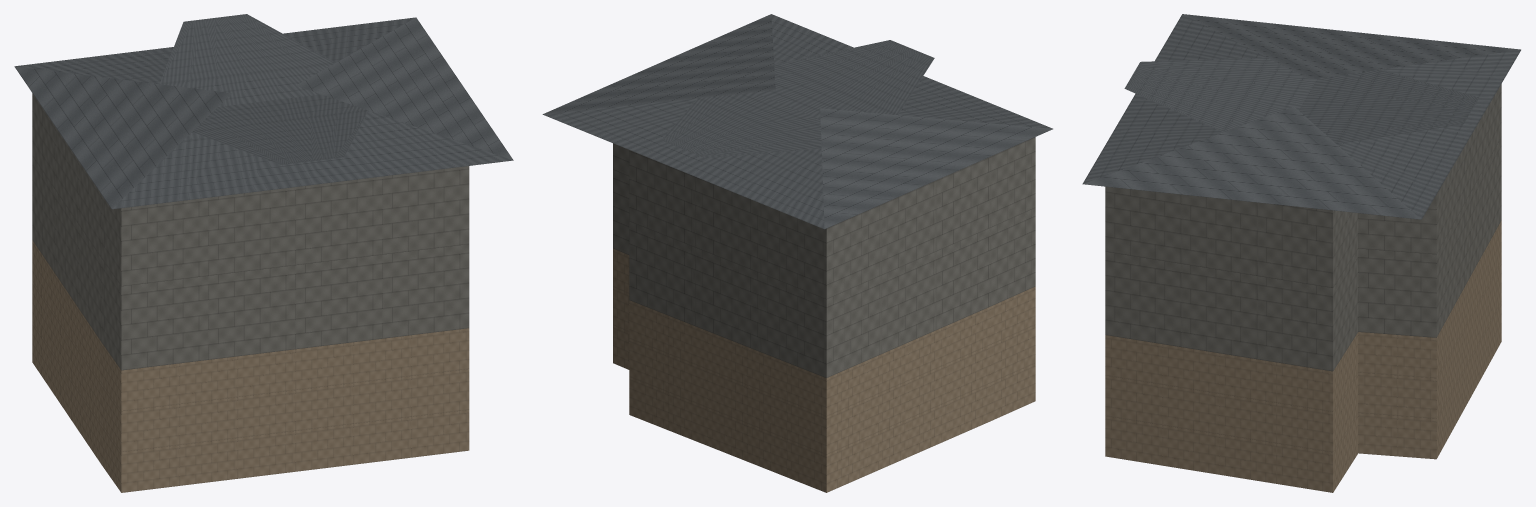
Rendered from bld_c38_36_294.gltf.
3 views of the same model, side by side, from view 1: azimuth 30°, elevation 25°; view 2: azimuth 150°, elevation 25°; view 3: azimuth 270°, elevation 25° (orthographic). The views are drawn at different scales.
Parts seen in each view (by area): view 1: bld_c38_36_294; view 2: bld_c38_36_294; view 3: bld_c38_36_294.
Boxes of the visible parts, box(x1,y1,x2,y2) form: bld_c38_36_294: box(14, 14, 513, 492); bld_c38_36_294: box(542, 14, 1052, 492); bld_c38_36_294: box(1082, 14, 1520, 492).
Size of the model in its own units: 18.53 by 13.1 by 16.71.
3 materials, 3 textured.
